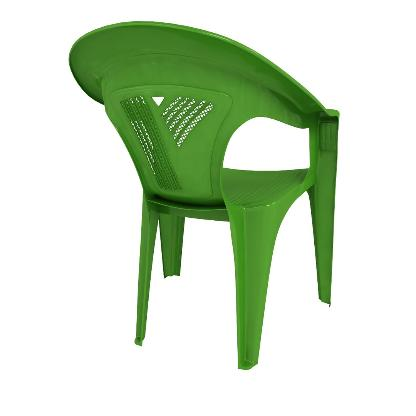chair: (58, 18, 345, 373)
